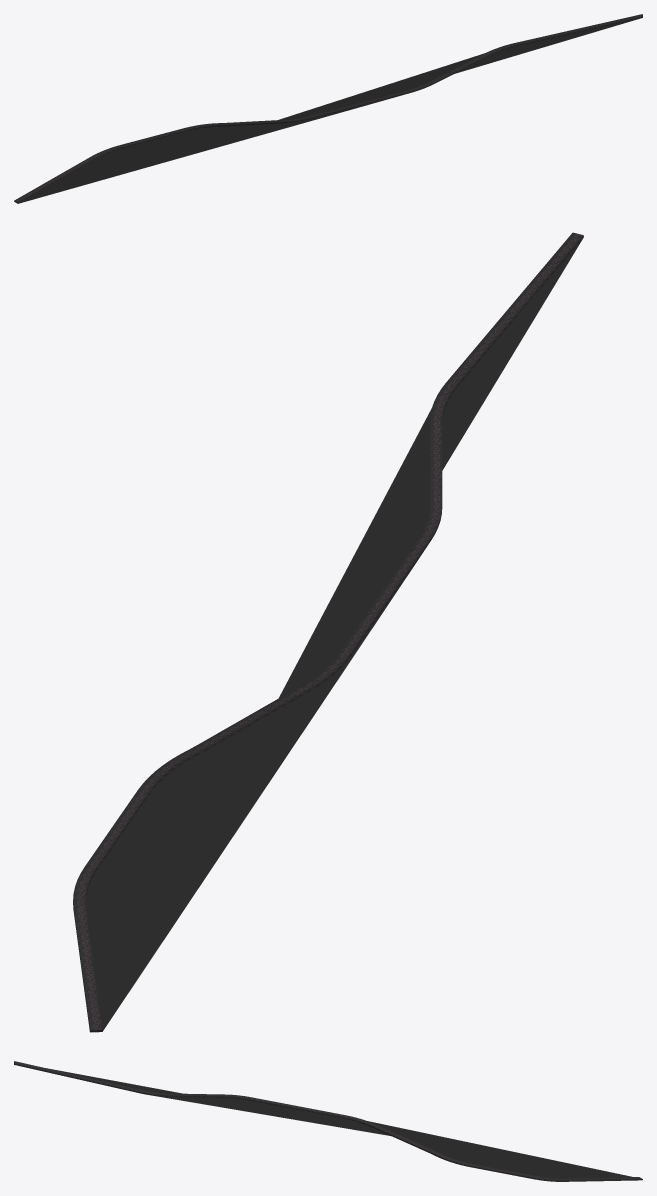
3 views of the same model, one above another, from view 1: azimuth 90°, elevation 25°; view 2: azimuth 150°, elevation 25°; view 3: azimuth 270°, elevation 25° (orthographic). The views are drawn at different scales.
Visible parts, largest first — view 1: OBJ_Course; view 2: OBJ_Course; view 3: OBJ_Course.
Part boxes in pixels (x1,y1,x2,y2): OBJ_Course: [14, 14, 642, 203]; OBJ_Course: [73, 232, 583, 1032]; OBJ_Course: [14, 1061, 642, 1181].
Size of the model in its own units: 68.13 by 128 by 479.
Materials: 1 (1 with a texture image).
